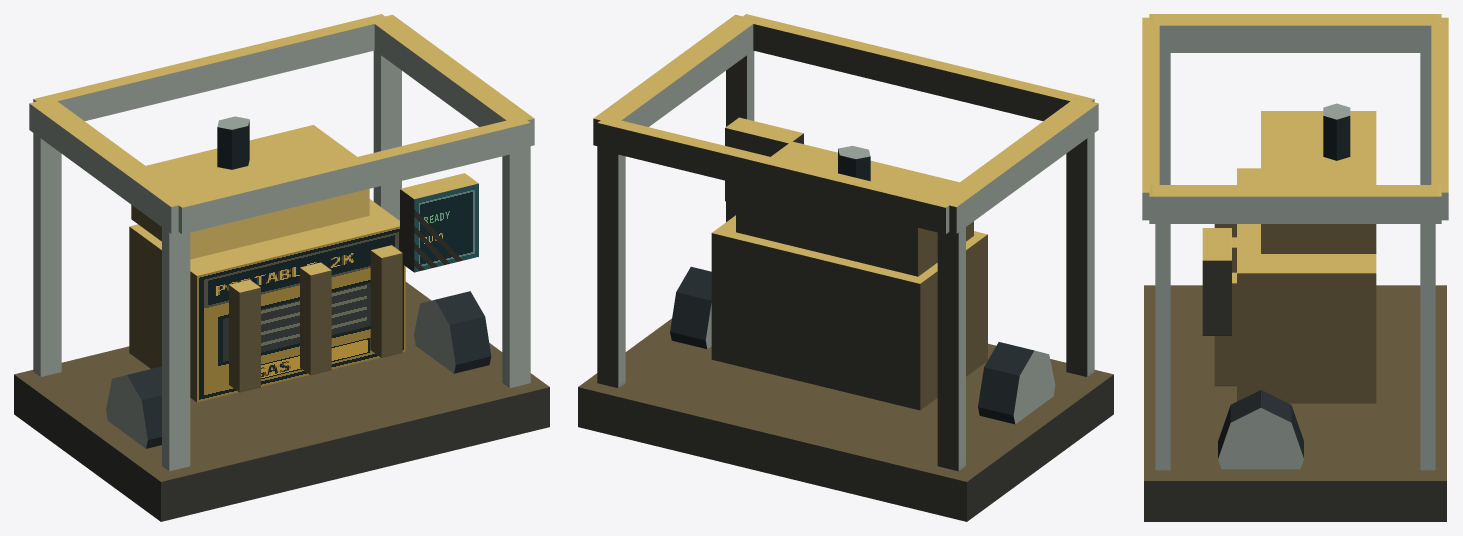
File: generador_portatil.glb
3 views of the same model, side by side, from view 1: azimuth 30°, elevation 25°; view 2: azimuth 150°, elevation 25°; view 3: azimuth 270°, elevation 25° (orthographic). The views are drawn at different scales.
Visible parts, largest first — view 1: GENERADORES_PROPS; view 2: GENERADORES_PROPS; view 3: GENERADORES_PROPS.
Boxes of the visible parts, x1,y1,x2,y2 form: GENERADORES_PROPS: [14, 14, 549, 521]; GENERADORES_PROPS: [578, 14, 1113, 521]; GENERADORES_PROPS: [1142, 14, 1448, 521].
Bounding box in the file's own units: 1.02 × 0.7795 × 0.6782.
Materials: 1 (1 with a texture image).
